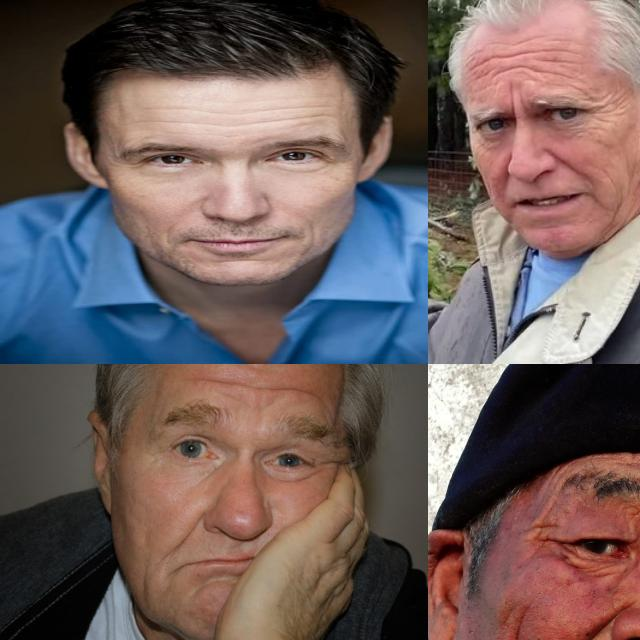crows_feet: (528, 514, 566, 566), (586, 95, 618, 122)
forehead: (253, 110, 332, 128), (534, 40, 566, 80), (194, 371, 252, 393), (270, 100, 333, 120), (264, 378, 312, 402), (206, 108, 240, 137), (467, 51, 493, 87), (499, 44, 526, 78), (137, 114, 195, 129), (617, 455, 640, 481)
frown_line: (503, 92, 523, 118)
gummy_smile: (576, 606, 614, 640), (174, 508, 202, 548), (550, 148, 582, 180)
masseter: (499, 620, 534, 640), (604, 201, 624, 229), (137, 568, 153, 602)
sad_smile: (300, 224, 320, 256)
